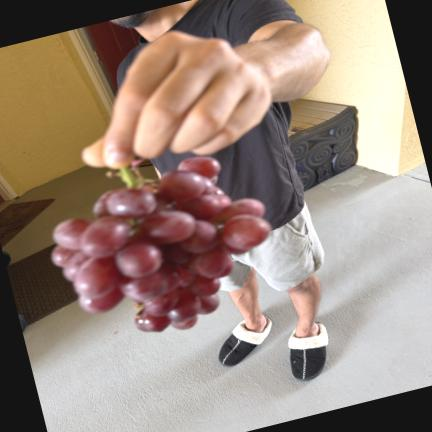grape_cluster: (51, 156, 271, 331)
